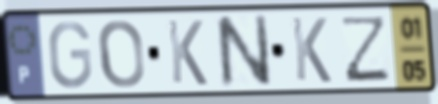G: (47, 19, 95, 92)
K: (164, 17, 210, 88), (288, 14, 334, 85)
N: (211, 12, 275, 92)
O: (95, 17, 147, 91)
Z: (341, 13, 392, 84)
